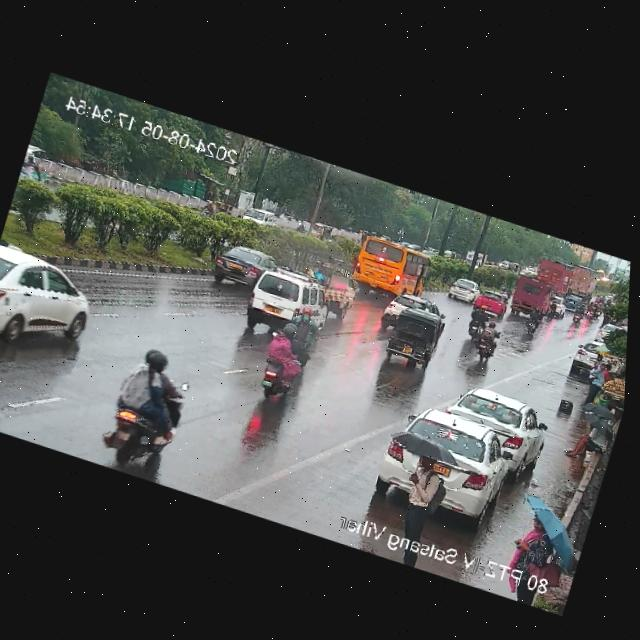bus: (341, 228, 434, 310), (502, 272, 556, 323)
car: (375, 399, 529, 531), (0, 237, 102, 360), (444, 379, 552, 467), (240, 260, 330, 339), (380, 302, 449, 376), (206, 237, 276, 294), (383, 286, 451, 329), (569, 334, 626, 381), (443, 274, 481, 304), (593, 319, 620, 344), (553, 294, 570, 318), (563, 291, 583, 308)
motorcycle: (94, 332, 202, 481), (254, 316, 310, 402), (458, 301, 511, 370), (18, 152, 48, 185), (524, 304, 544, 338), (570, 302, 585, 325), (201, 198, 216, 218), (545, 299, 557, 319)
person: (395, 451, 445, 541), (509, 507, 560, 576), (563, 416, 611, 464), (582, 358, 609, 406), (603, 361, 614, 379)
truck: (277, 245, 364, 320), (532, 254, 574, 292), (565, 263, 599, 296)
